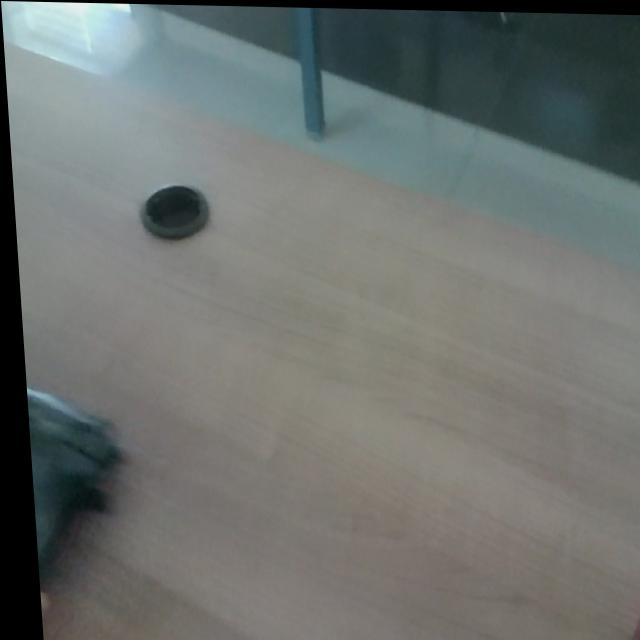handgun: (16, 309, 137, 640)
